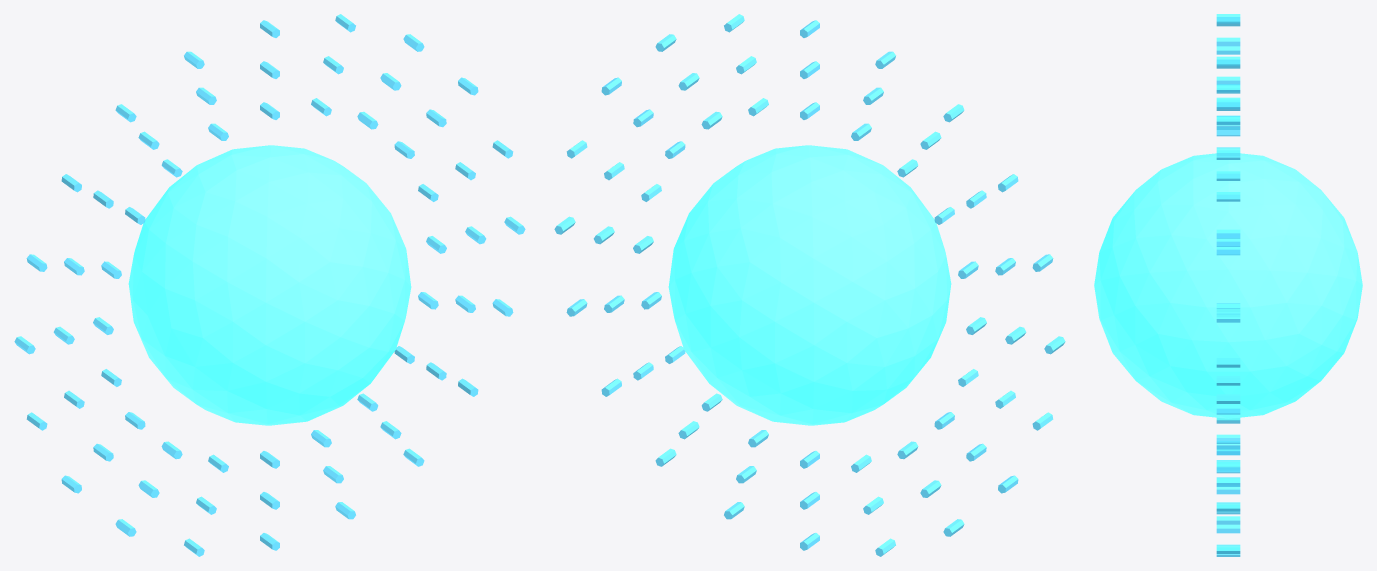
The model's file is 18_Ancient_Resonance_Core.glb.
3 renders of one model, left to right at view 1: azimuth 30°, elevation 25°; view 2: azimuth 150°, elevation 25°; view 3: azimuth 270°, elevation 25°, orthographic. The views are drawn at different scales.
Parts seen in each view (by area): view 1: 18_Ancient_Resonance_Core_00; view 2: 18_Ancient_Resonance_Core_00; view 3: 18_Ancient_Resonance_Core_00.
Boxes of the visible parts, x1=… form: 18_Ancient_Resonance_Core_00: x1=128, y1=145, x2=411, y2=425; 18_Ancient_Resonance_Core_00: x1=668, y1=145, x2=951, y2=425; 18_Ancient_Resonance_Core_00: x1=1094, y1=153, x2=1362, y2=418.
Bounding box in the file's own units: 5.09 × 5.09 × 2.5.
